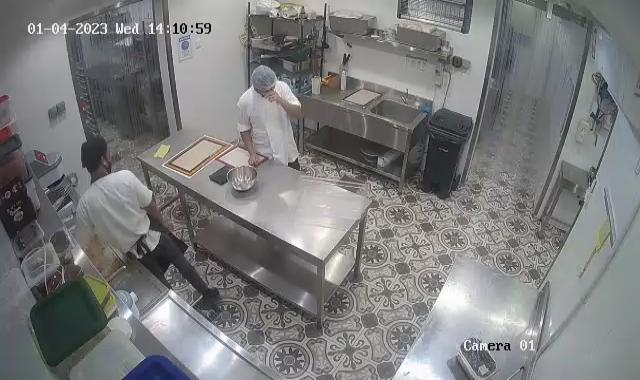hairnet: (247, 60, 279, 93)
no_hairnet: (79, 134, 109, 171)
